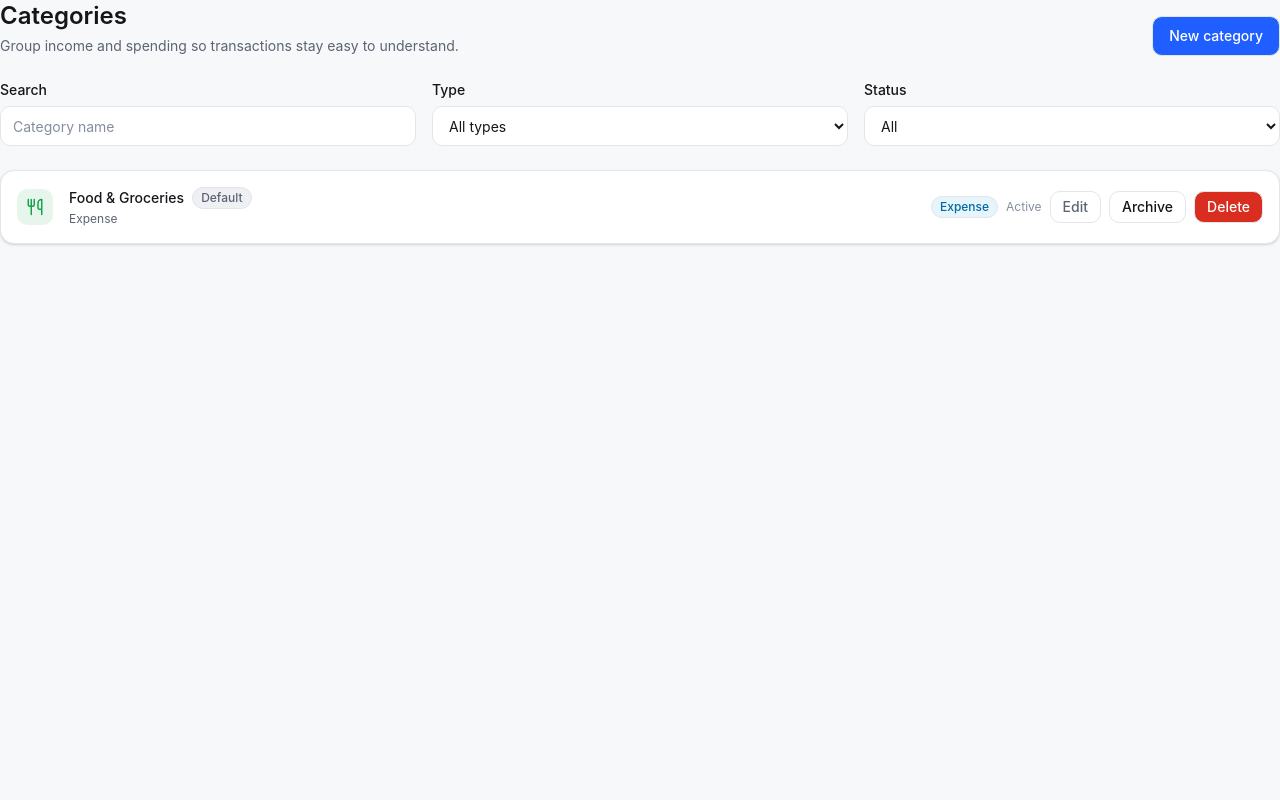
Test: CategoriesPage › confirms before deleting a category
Expected: the text "Food & Groceries" is shown, left=69, top=189, right=184, bottom=206
Step 1. Click the button "Delete" → (1229, 207), box left=1194, top=191, right=1263, bottom=223
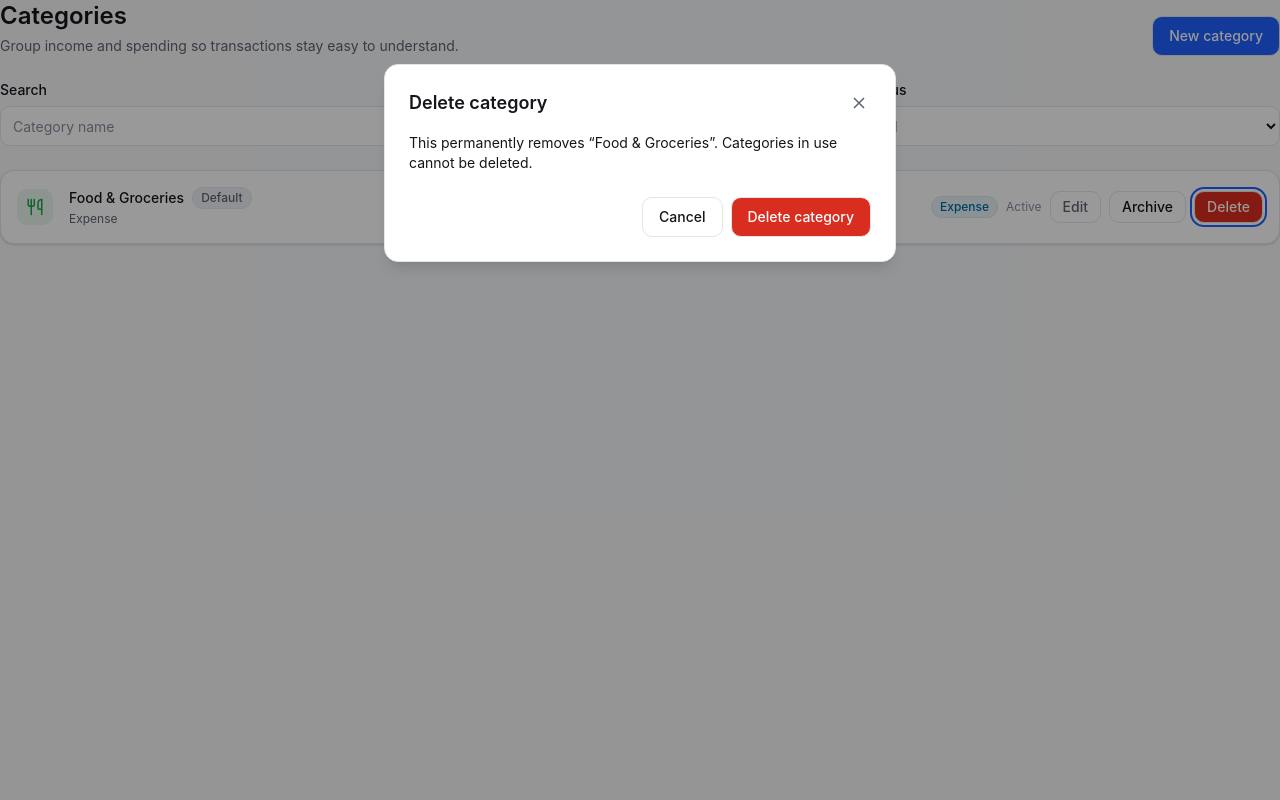
Expected: the dialog "Delete category" shows "Food & Groceries", left=595, top=134, right=709, bottom=151
Step 2. Click the button "Delete category" → (801, 217), box left=730, top=197, right=871, bottom=237
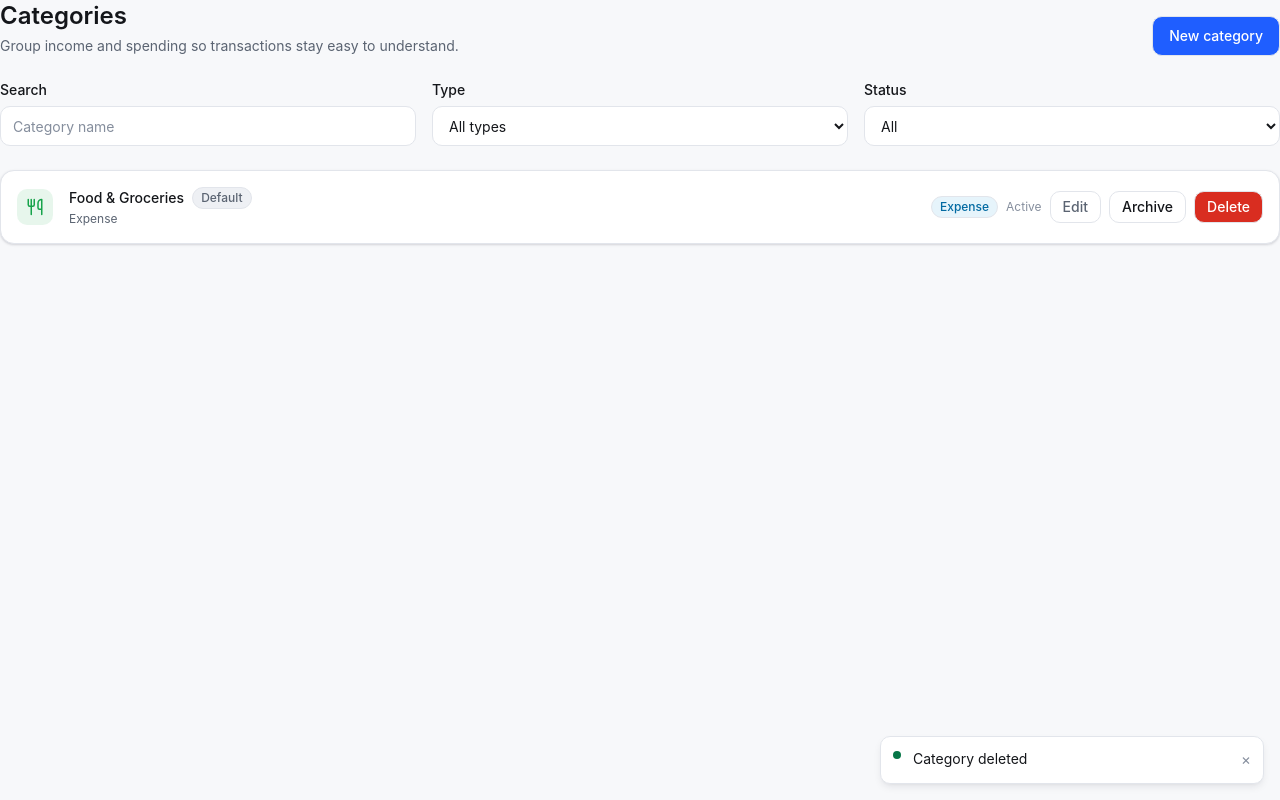
Expected: the text "Category deleted" is shown, left=913, top=750, right=1027, bottom=766
